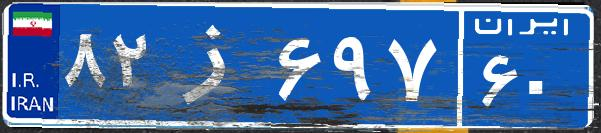0: (525, 38, 570, 115)
2: (110, 28, 158, 105)
6: (273, 28, 330, 110), (475, 38, 525, 113)
7: (385, 28, 445, 110)
8: (57, 26, 110, 107)
9: (330, 28, 385, 110)
ز: (158, 15, 273, 115)
